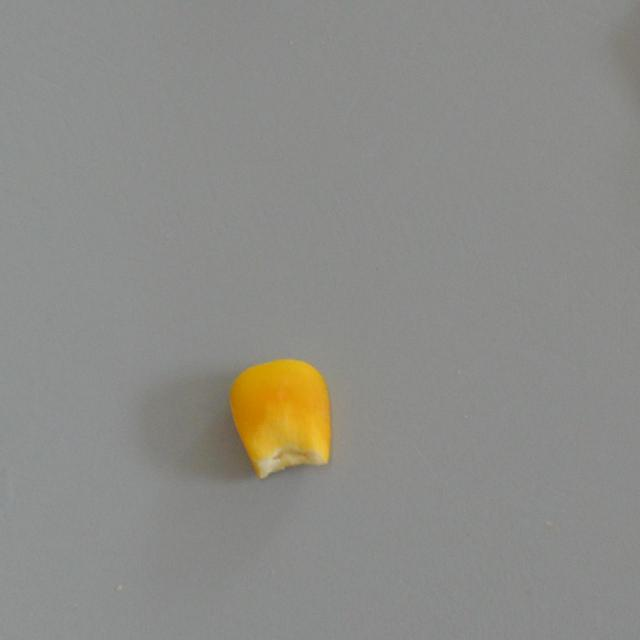no_desgerminado: (222, 351, 339, 482)
